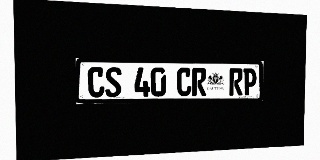0: (151, 67, 166, 97)
4: (134, 67, 150, 97)
C: (88, 67, 105, 97), (177, 68, 192, 96)
P: (243, 68, 257, 95)
R: (192, 68, 206, 96), (229, 68, 243, 96)
S: (105, 67, 122, 97)
